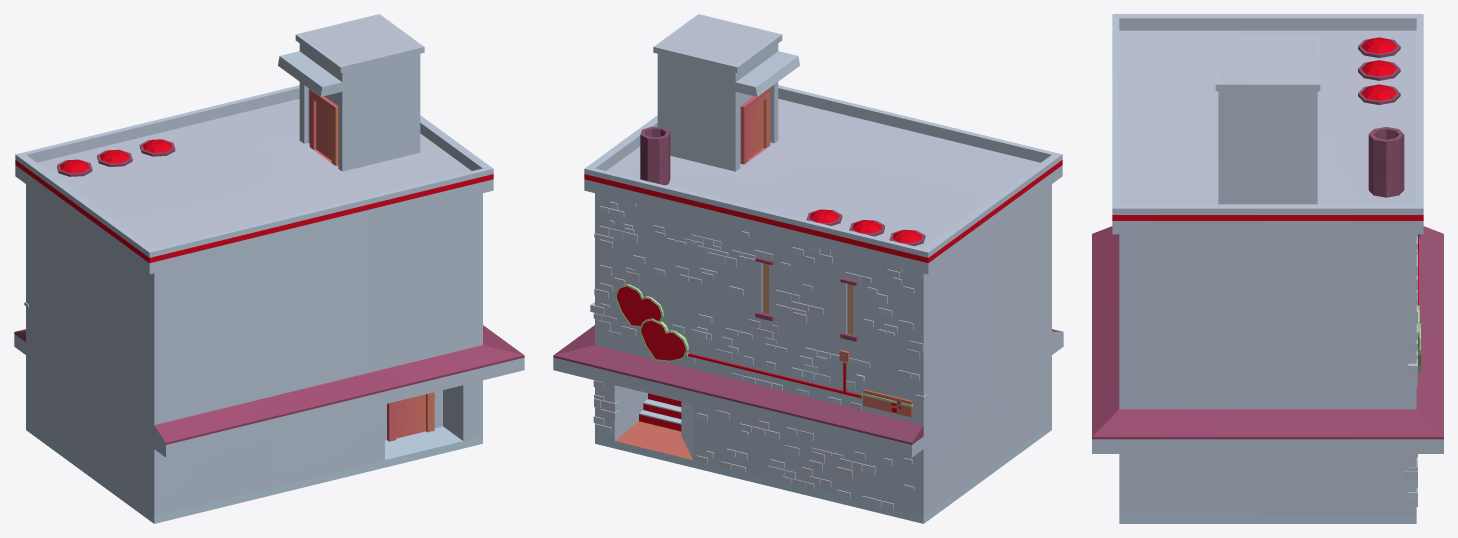
Rendered from Building_CrookedHearts.fbx.
3 renders of one model, left to right at view 1: azimuth 30°, elevation 25°; view 2: azimuth 150°, elevation 25°; view 3: azimuth 270°, elevation 25°, orthographic. The views are drawn at different scales.
Parts seen in each view (by area): view 1: Cube.051; view 2: Cube.051, Wall; view 3: Cube.051, Wall.
Part boxes in pixels (x1,y1,x2,y2): Cube.051: (14,14,524,523); Cube.051: (553,14,1063,523); Wall: (590,200,927,510); Cube.051: (1092,14,1443,523); Wall: (1403,234,1417,506).
Size of the model in its own units: 1024 by 990 by 734.
